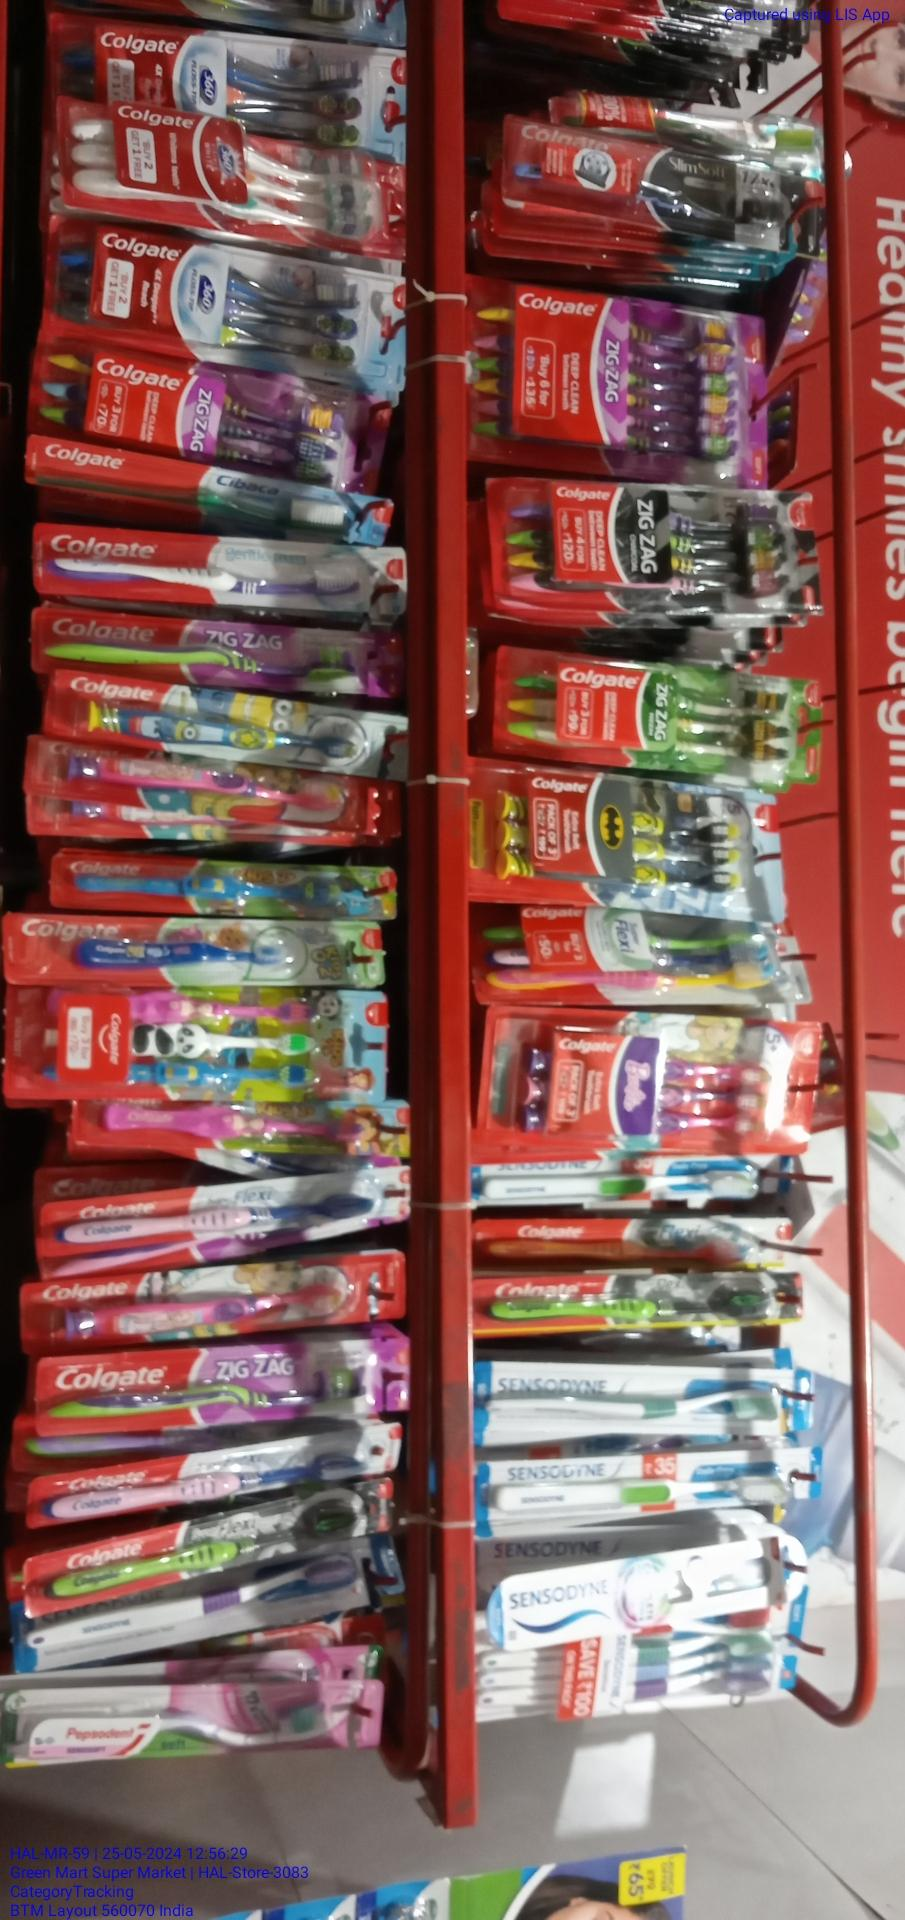13: (792, 1103, 830, 1920)
14: (769, 222, 812, 915)
liquid soap: (229, 173, 289, 877)
soap: (65, 168, 104, 851)
